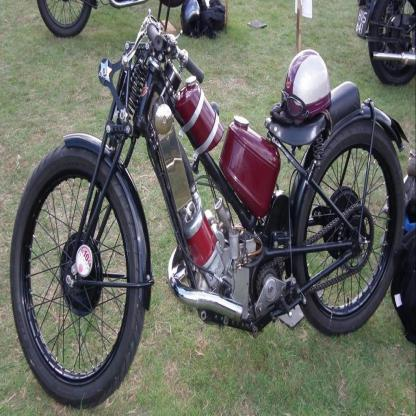Helmet: (274, 53, 336, 128), (180, 0, 201, 37)
